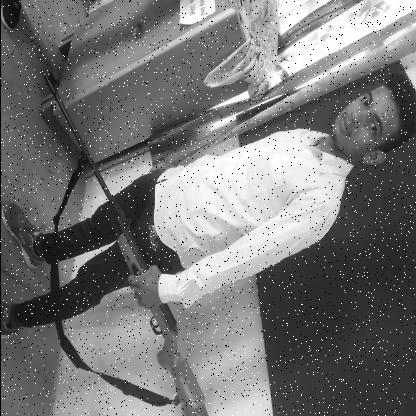rifle: (38, 67, 209, 416)
